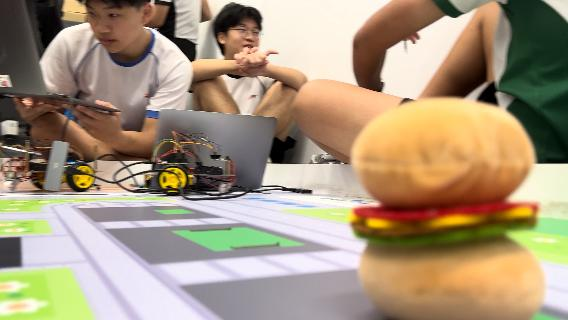burger: (347, 94, 548, 318)
